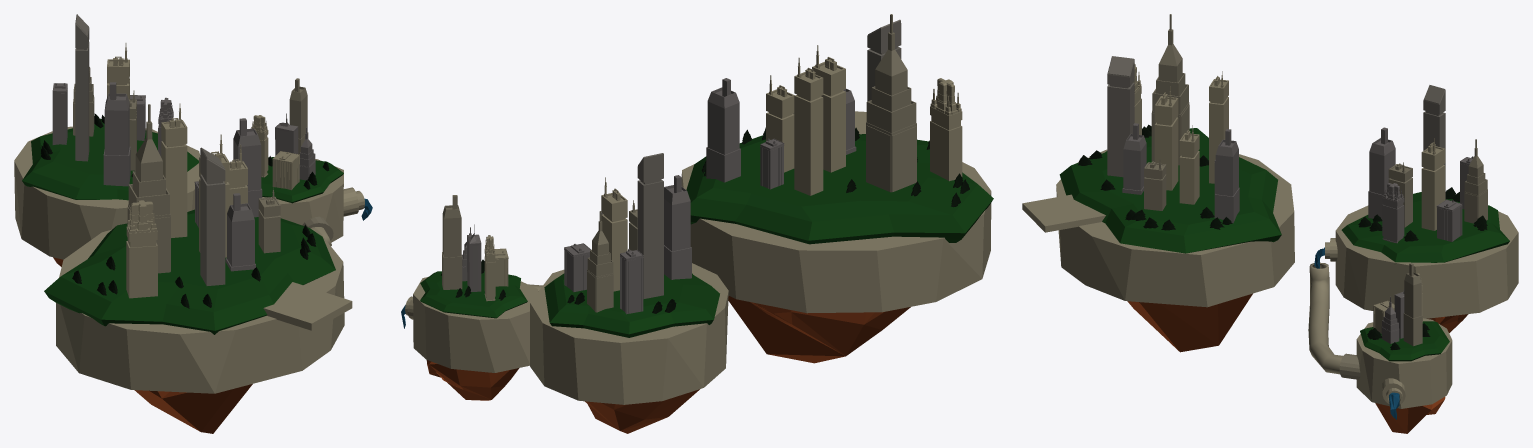
The model's file is NEWextralargelandcity.obj.
3 renders of one model, left to right at view 1: azimuth 30°, elevation 25°; view 2: azimuth 150°, elevation 25°; view 3: azimuth 270°, elevation 25°, orthographic. The views are drawn at different scales.
Parts seen in each view (by area): view 1: Cylinder.005_Cylinder.004, Cylinder_multicolor_0.002, Cylinder, Cylinder_multicolor_0, Highrise_16.001, Highrise_9.002_Highrise_9.001, Highrise_18.001, Icosphere.003, Highrise_11.006, Cube, Highrise_8.002, Highrise_16.002 (+19 smaller); view 2: Cylinder.005_Cylinder.004, Cylinder_multicolor_0.002, Cylinder, Cylinder.001, Icosphere.003, Highrise_9.002_Highrise_9.001, Cylinder_multicolor_0, Highrise_11.006, Highrise_16.002, Highrise_8.007_Highrise_8.009, Highrise_18.001, Cylinder_multicolor_0.001 (+15 smaller); view 3: Cylinder.005_Cylinder.004, Cylinder_multicolor_0.002, Cylinder, Cylinder_multicolor_0, Cylinder.001, Icosphere.003, Highrise_16.001, BezierCurve, Highrise_9.002_Highrise_9.001, Highrise_11.003, Cube, Highrise_8.007_Highrise_8.009 (+16 smaller).
Boxes of the visible parts, x1,y1,x2,y2 form: Cylinder.005_Cylinder.004: (56, 228, 344, 393); Cylinder_multicolor_0.002: (44, 209, 335, 334); Cylinder: (14, 126, 200, 259); Cylinder_multicolor_0: (22, 118, 198, 200); Highrise_16.001: (200, 147, 225, 285); Highrise_9.002_Highrise_9.001: (127, 104, 170, 273); Highrise_18.001: (126, 200, 157, 298); Icosphere.003: (134, 384, 252, 433); Highrise_11.006: (161, 103, 187, 237); Cube: (263, 282, 352, 330); Highrise_8.002: (103, 82, 130, 186); Highrise_16.002: (75, 14, 89, 161); Cylinder.005_Cylinder.004: (681, 162, 991, 313); Cylinder_multicolor_0.002: (686, 134, 993, 244); Cylinder: (530, 263, 728, 404); Cylinder.001: (413, 277, 538, 372); Icosphere.003: (728, 296, 910, 363); Highrise_9.002_Highrise_9.001: (866, 14, 916, 192); Cylinder_multicolor_0: (544, 273, 719, 337); Highrise_11.006: (794, 57, 823, 195); Highrise_16.002: (637, 153, 663, 299); Highrise_8.007_Highrise_8.009: (706, 78, 740, 182); Highrise_18.001: (930, 78, 962, 181); Cylinder_multicolor_0.001: (420, 271, 527, 318); Cylinder.005_Cylinder.004: (1056, 149, 1294, 307); Cylinder_multicolor_0.002: (1059, 128, 1281, 253); Cylinder: (1335, 205, 1518, 318); Cylinder_multicolor_0: (1341, 192, 1509, 262); Cylinder.001: (1356, 318, 1452, 408); Icosphere.003: (1127, 293, 1252, 352); Highrise_16.001: (1107, 56, 1134, 177); BezierCurve: (1308, 262, 1342, 374); Highrise_9.002_Highrise_9.001: (1151, 14, 1189, 165); Highrise_11.003: (1154, 86, 1178, 190); Cube: (1022, 194, 1105, 232); Highrise_8.007_Highrise_8.009: (1214, 129, 1239, 223).
Size of the model in its own units: 1.67 by 1.28 by 1.87.
